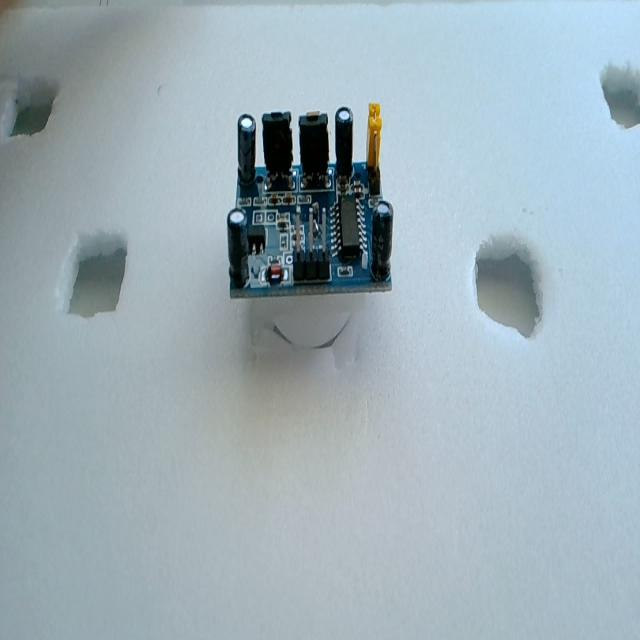Electrolytic capacitor: (227, 209, 250, 286), (371, 202, 393, 282), (334, 106, 354, 181), (237, 114, 256, 186)
IC: (331, 188, 368, 266)
pinheader: (293, 208, 330, 282)
